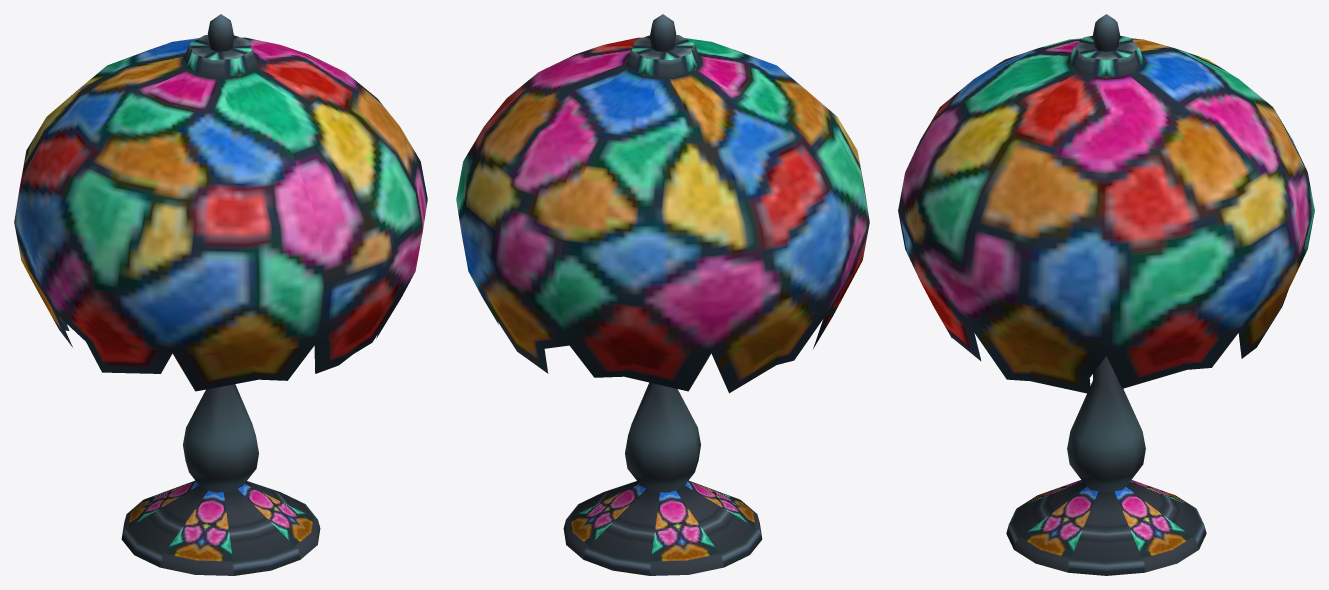
File: rmk_oth_glasslamp.dae
3 renders of one model, left to right at view 1: azimuth 30°, elevation 25°; view 2: azimuth 150°, elevation 25°; view 3: azimuth 270°, elevation 25°, orthographic.
Visible parts, largest first — view 1: rmk_oth_glasslamp; view 2: rmk_oth_glasslamp; view 3: rmk_oth_glasslamp.
Boxes of the visible parts, <box> form: rmk_oth_glasslamp: <box>14,14,427,575</box>; rmk_oth_glasslamp: <box>456,14,869,575</box>; rmk_oth_glasslamp: <box>898,14,1314,575</box>.
Size of the model in its own units: 22.12 by 30.42 by 22.12.
Materials: 2 (2 with a texture image).
